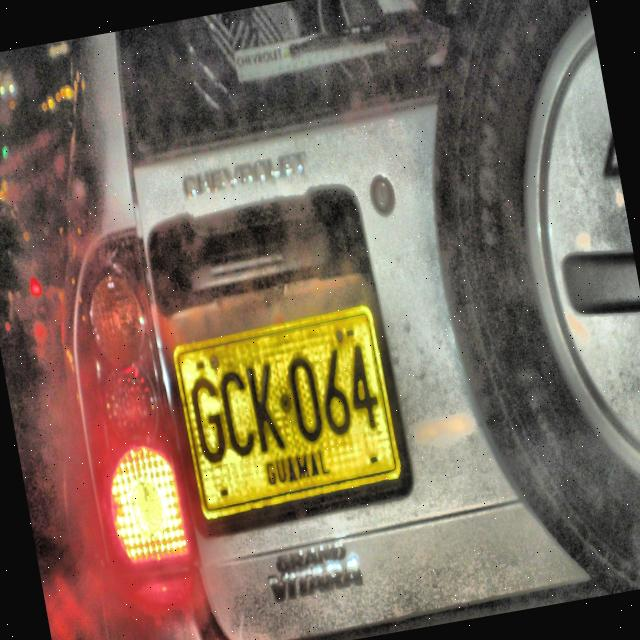0: (284, 350, 328, 448)
4: (341, 338, 383, 434)
6: (311, 342, 357, 442)
C: (214, 367, 260, 459)
G: (186, 372, 230, 470)
K: (242, 358, 288, 455)
